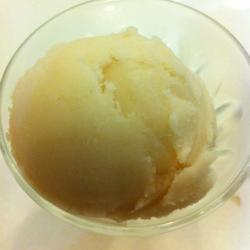icecream: (9, 30, 208, 223)
